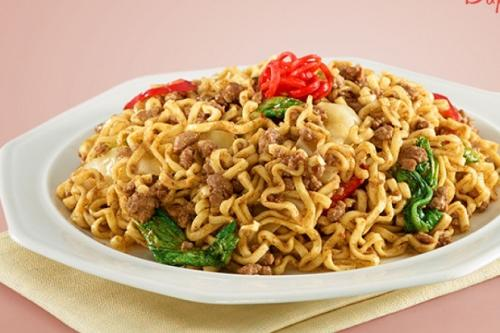Mie: (59, 72, 500, 295)
